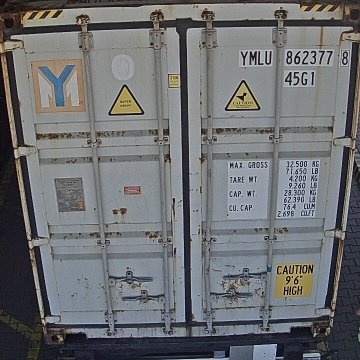serial_id: (239, 50, 349, 66)
